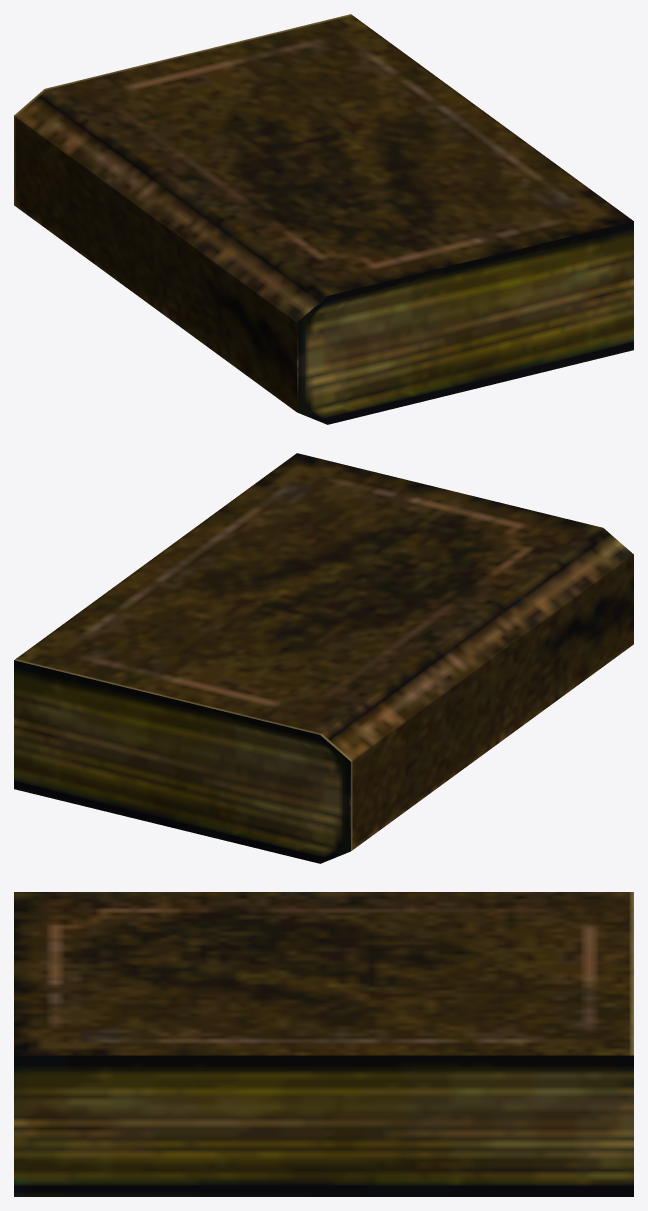
File: ITWR.glb
The picture shows the model from 3 angles, top to bottom: view 1: azimuth 30°, elevation 25°; view 2: azimuth 150°, elevation 25°; view 3: azimuth 270°, elevation 25°; orthographic projection. The views are drawn at different scales.
Parts seen in each view (by area): view 1: zengin; view 2: zengin; view 3: zengin.
Part boxes in pixels (bbox=[...]): zengin: bbox=[14, 14, 633, 424]; zengin: bbox=[14, 453, 633, 863]; zengin: bbox=[14, 892, 633, 1196].
Size of the model in its own units: 0.22 by 0.0804 by 0.32.
Materials: 1 (1 with a texture image).
